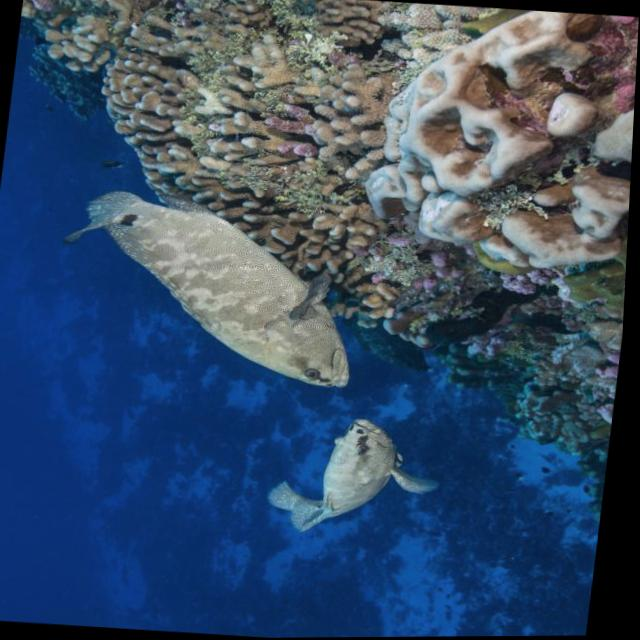Bleached Coral: (355, 2, 640, 237)
Healthy Coral: (0, 0, 395, 221), (261, 210, 413, 281), (413, 250, 477, 307), (343, 278, 406, 333), (503, 276, 555, 301)
